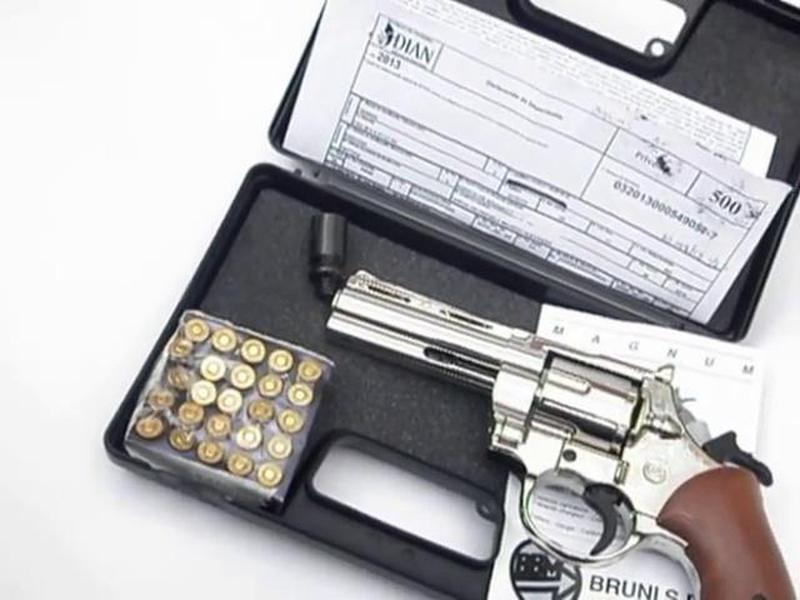Revolver: (270, 229, 800, 595)
